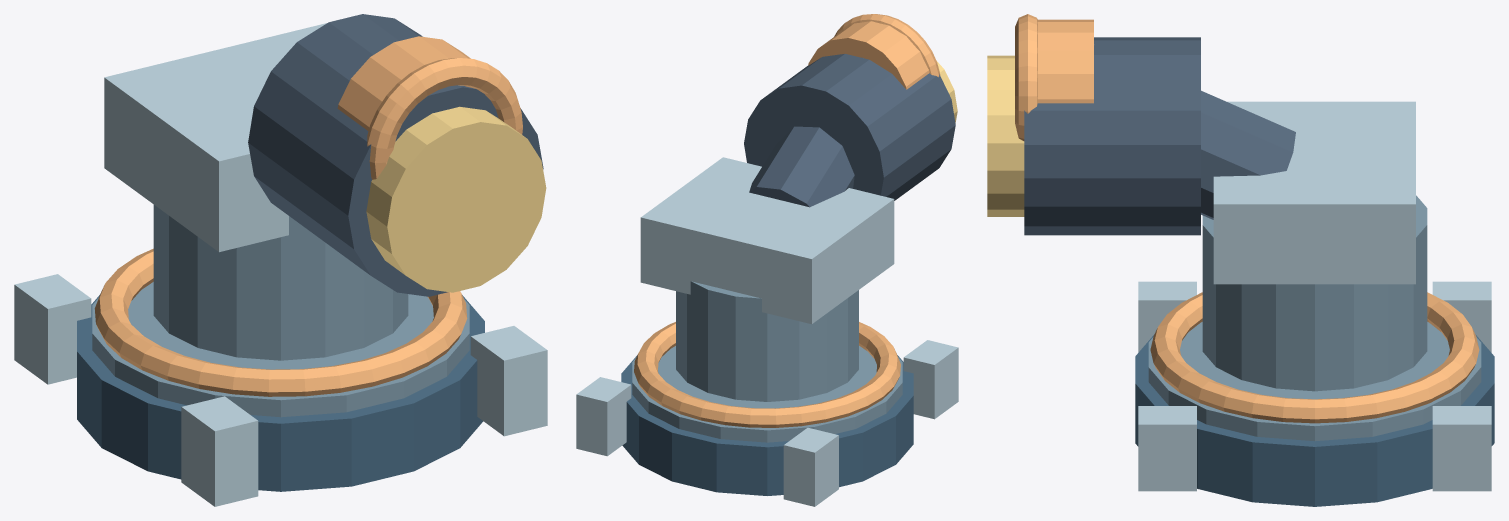
The model's file is nova_mortar.glb.
3 views of the same model, side by side, from view 1: azimuth 30°, elevation 25°; view 2: azimuth 150°, elevation 25°; view 3: azimuth 270°, elevation 25° (orthographic). The views are drawn at different scales.
Parts seen in each view (by area): view 1: turret_head_8, pedestal_0, rotating_housing_7, heavy_mortar_tube_12, mortar_barrel_13, energy_ring_2, armor_ring_1, bolt_5, bolt_6, bolt_3, muzzle_glow_11, muzzle_10; view 2: turret_head_8, heavy_mortar_tube_12, rotating_housing_7, pedestal_0, energy_ring_2, armor_ring_1, weapon_shaft_9, bolt_3, muzzle_10, bolt_4, bolt_5, muzzle_glow_11; view 3: turret_head_8, heavy_mortar_tube_12, rotating_housing_7, pedestal_0, energy_ring_2, armor_ring_1, weapon_shaft_9, mortar_barrel_13, bolt_4, bolt_6, muzzle_10, muzzle_glow_11 (+2 smaller).
Boxes of the visible parts, <box> form: turret_head_8: <box>104,23,326,252</box>; pedestal_0: <box>77,295,484,491</box>; rotating_housing_7: <box>153,205,408,360</box>; heavy_mortar_tube_12: <box>248,14,543,296</box>; mortar_barrel_13: <box>366,106,546,292</box>; energy_ring_2: <box>94,248,467,396</box>; armor_ring_1: <box>92,282,469,417</box>; bolt_5: <box>181,396,258,506</box>; bolt_6: <box>470,326,547,436</box>; bolt_3: <box>14,274,91,384</box>; muzzle_glow_11: <box>367,58,522,179</box>; muzzle_10: <box>337,36,470,130</box>; turret_head_8: <box>640,157,894,324</box>; heavy_mortar_tube_12: <box>744,54,955,200</box>; rotating_housing_7: <box>676,281,858,401</box>; pedestal_0: <box>621,355,913,495</box>; energy_ring_2: <box>634,322,900,427</box>; armor_ring_1: <box>632,346,902,442</box>; weapon_shaft_9: <box>749,57,863,207</box>; bolt_3: <box>783,427,838,506</box>; muzzle_10: <box>808,21,929,89</box>; bolt_4: <box>576,377,631,456</box>; bolt_5: <box>903,340,958,419</box>; muzzle_glow_11: <box>834,14,940,77</box>; turret_head_8: <box>1213,101,1415,284</box>; heavy_mortar_tube_12: <box>1024,37,1200,235</box>; rotating_housing_7: <box>1202,195,1427,391</box>; pedestal_0: <box>1135,334,1494,506</box>; energy_ring_2: <box>1150,292,1479,423</box>; armor_ring_1: <box>1148,322,1481,441</box>; weapon_shaft_9: <box>1094,44,1295,219</box>; mortar_barrel_13: <box>987,55,1024,216</box>; bolt_4: <box>1432,406,1491,491</box>; bolt_6: <box>1138,406,1196,491</box>; muzzle_10: <box>1037,19,1093,103</box>; muzzle_glow_11: <box>1015,14,1037,140</box>.
Bounding box in the file's own units: 0.9916 × 1.22 × 1.38.
